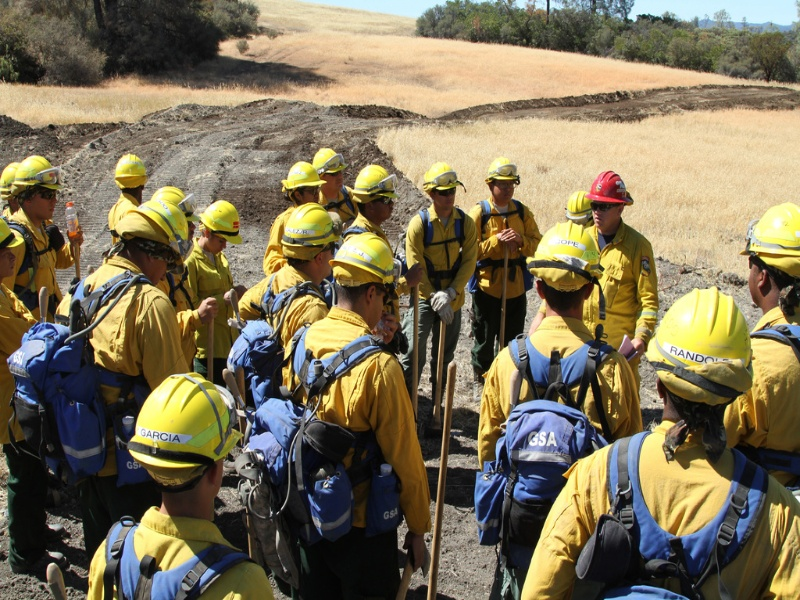Baret: (126, 371, 242, 482), (651, 287, 757, 402), (533, 223, 605, 288), (328, 231, 397, 284), (282, 202, 336, 261), (122, 201, 191, 245), (199, 199, 245, 244), (351, 164, 398, 201), (585, 171, 636, 203), (15, 154, 64, 187), (283, 161, 327, 186), (115, 153, 147, 187), (423, 162, 459, 190), (485, 158, 524, 180)
